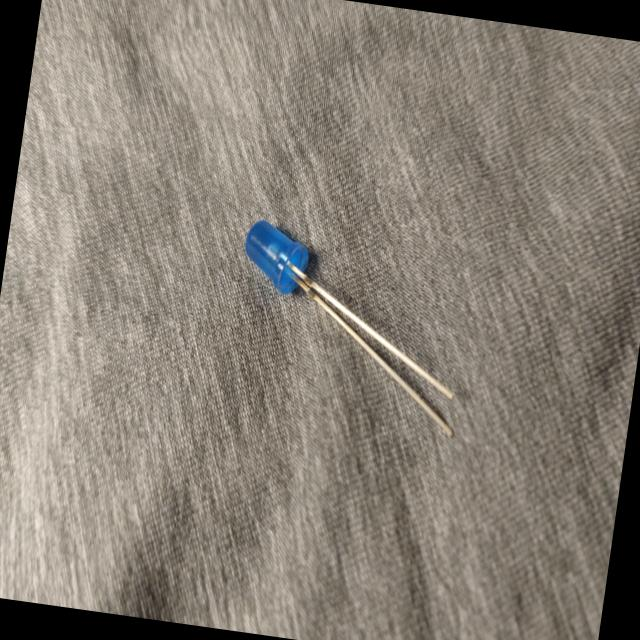blue_led: (221, 215, 480, 440)
